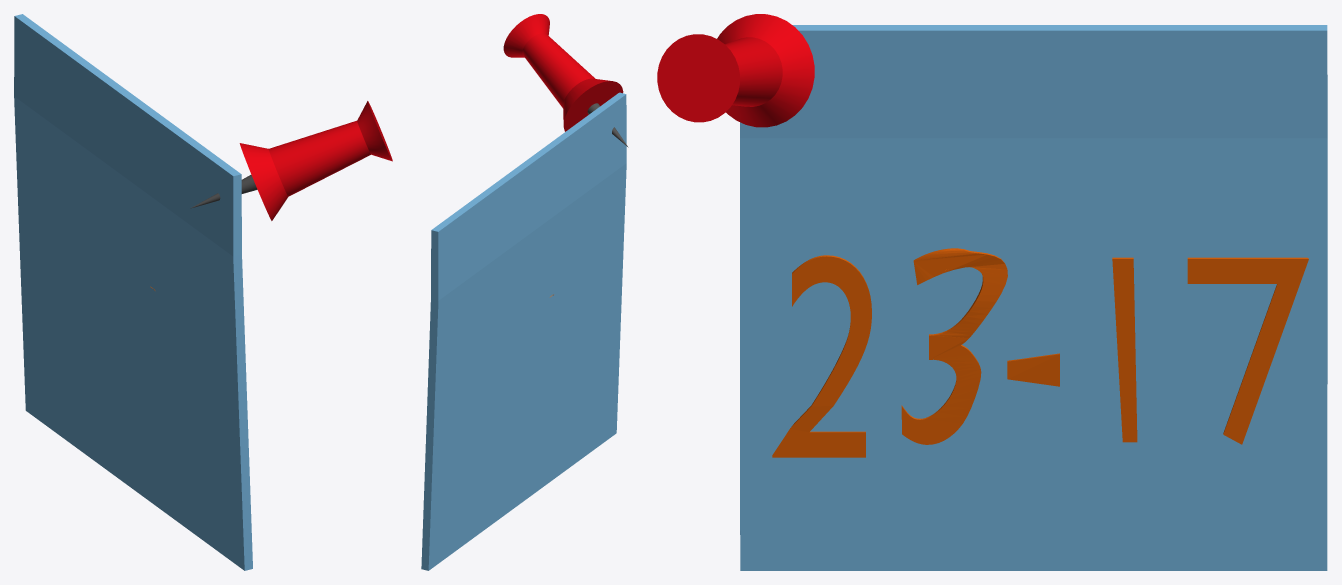
File: Post_it_.fbx
3 renders of one model, left to right at view 1: azimuth 30°, elevation 25°; view 2: azimuth 150°, elevation 25°; view 3: azimuth 270°, elevation 25°, orthographic. The views are drawn at different scales.
Parts seen in each view (by area): view 1: Text, Cylinder.001; view 2: Text, Cylinder.001; view 3: Text, Cylinder.001.
Part boxes in pixels (<box>): Text: <box>14,14,252,570</box>; Cylinder.001: <box>190,101,392,220</box>; Text: <box>421,92,626,570</box>; Cylinder.001: <box>503,14,628,147</box>; Text: <box>740,25,1327,570</box>; Cylinder.001: <box>657,14,814,127</box>.
Bounding box in the file's own units: 89.28 × 228 × 229.
